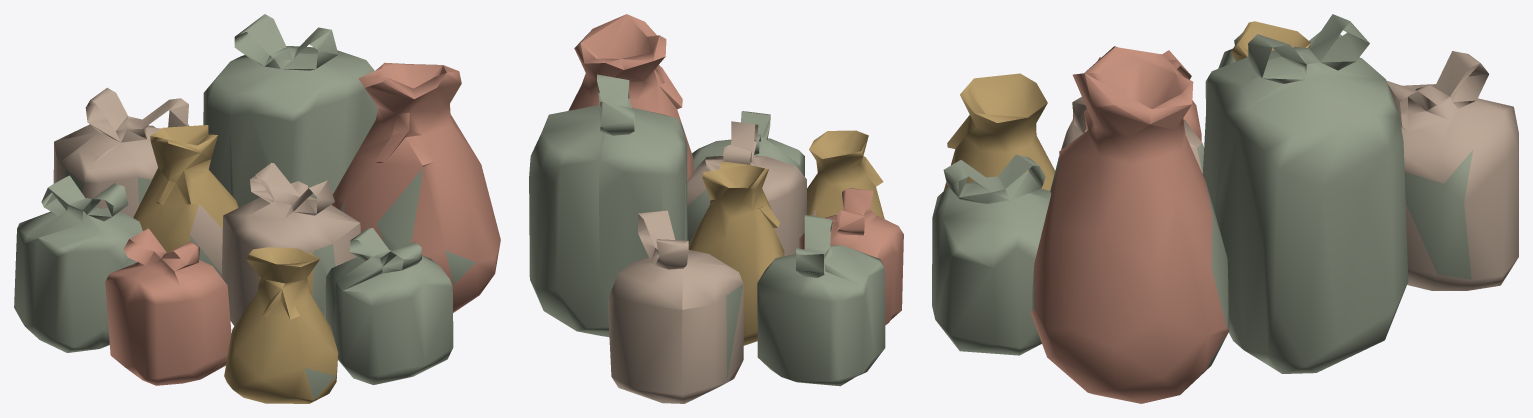
Rendered from gift_pile_01.medium.glb.
3 renders of one model, left to right at view 1: azimuth 30°, elevation 25°; view 2: azimuth 150°, elevation 25°; view 3: azimuth 270°, elevation 25°, orthographic. The views are drawn at different scales.
Bounding box in the file's own units: 1.69 × 1.05 × 1.7.
